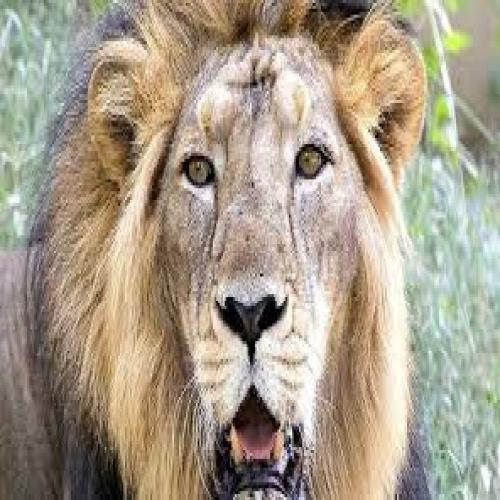lion-endangered: (3, 0, 427, 500)
